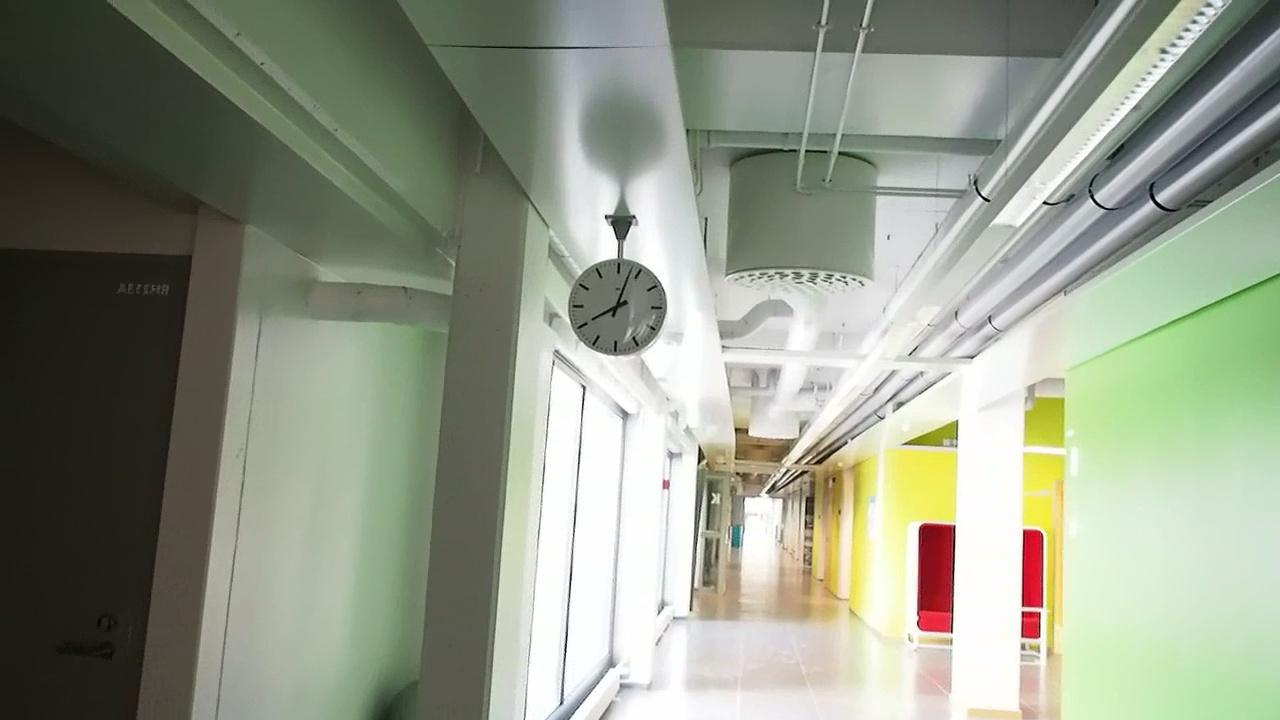clock: (555, 254, 670, 361)
